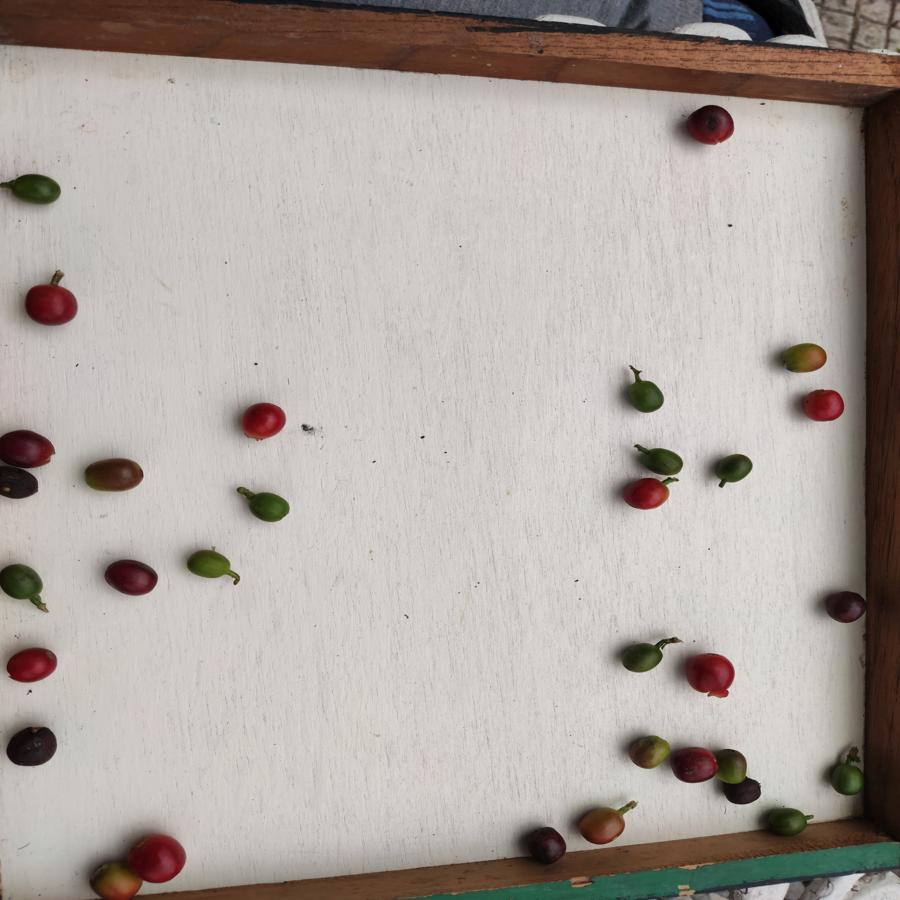Inmaduro: (2, 169, 66, 210), (1, 560, 50, 603), (182, 548, 241, 580), (622, 378, 666, 416), (247, 490, 293, 525), (638, 446, 685, 478), (620, 642, 667, 674), (764, 807, 808, 839), (828, 763, 867, 798), (714, 454, 752, 484)
Maduro: (131, 833, 188, 886), (23, 282, 81, 327), (682, 654, 735, 698), (238, 398, 288, 444), (796, 386, 850, 424), (620, 476, 673, 514), (7, 644, 57, 684)
Pinton: (80, 458, 147, 495), (576, 805, 629, 847), (87, 860, 135, 899), (626, 733, 669, 772), (780, 343, 830, 374), (714, 745, 749, 782)
Sobremaduro: (680, 100, 739, 150), (4, 726, 61, 768), (1, 427, 54, 470), (103, 560, 161, 598), (818, 587, 869, 627), (668, 744, 720, 782), (523, 826, 568, 869), (1, 465, 43, 505), (724, 780, 766, 804)
